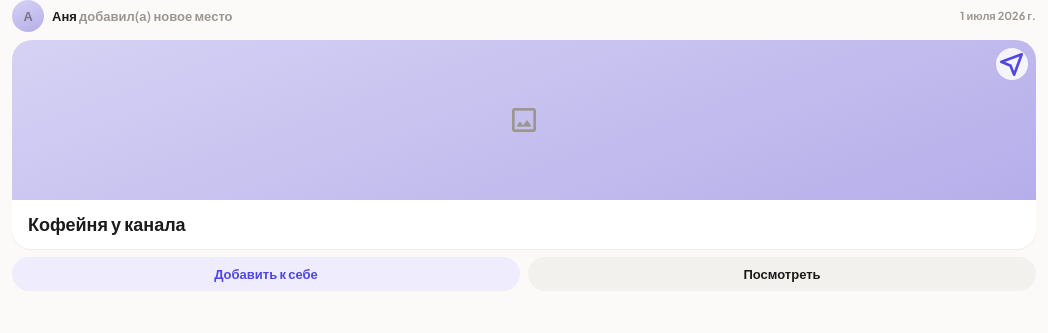
Test case: FeedItemCard › shows an error message instead of failing silently when "Добавить к себе" fails
What coordinates should you click on to do the following:
click the button "Добавить к себе"
I would click on:
 (266, 274)
Its box is [12, 257, 520, 291].
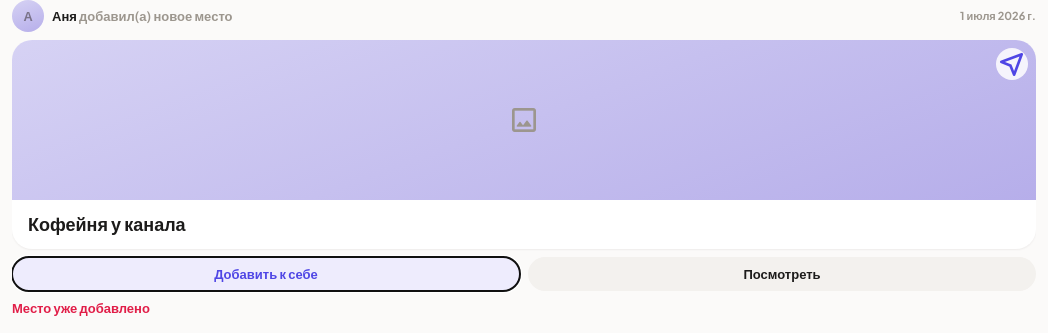
expect the text "Место уже добавлено" is shown: met, box [12, 300, 150, 316]
